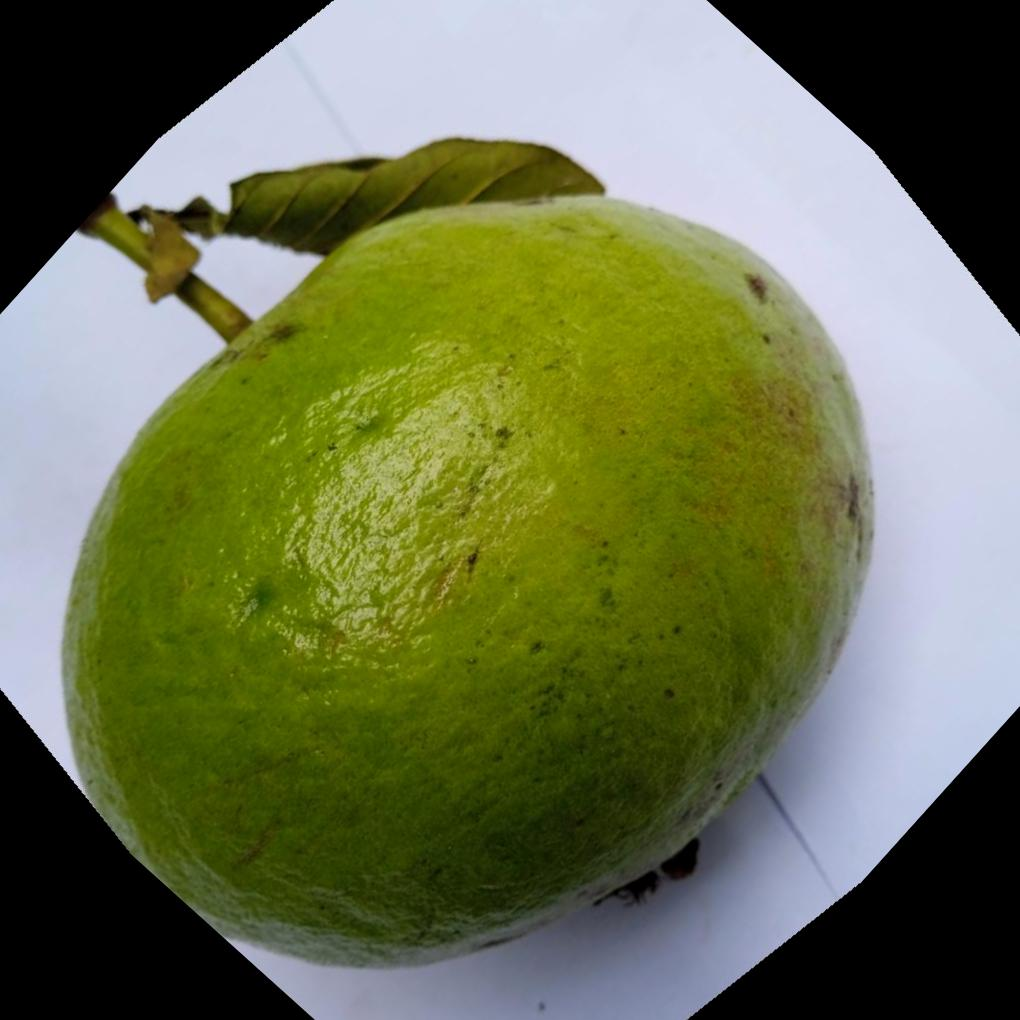FreshGuava: (55, 141, 875, 973)
